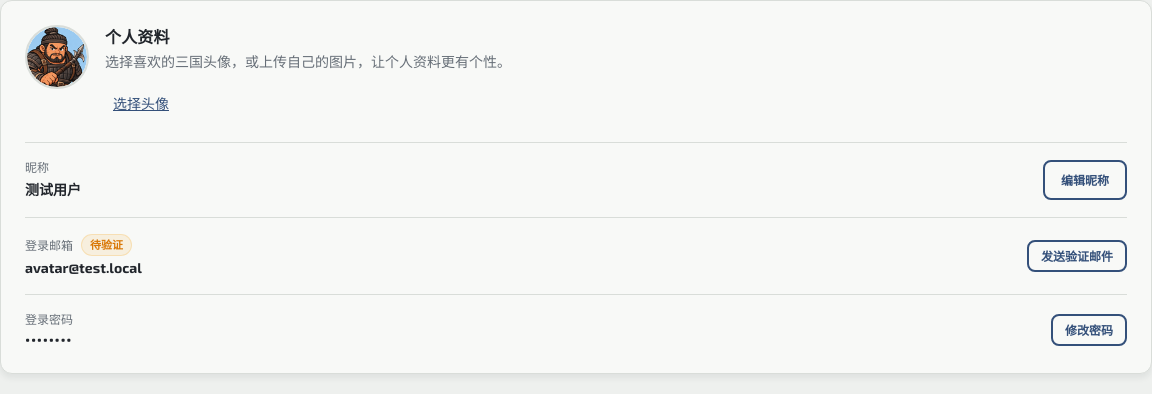
Scenario: profile pending actions › keeps email resend disabled after pending switches to cooldown
Click the button "发送验证邮件" at (1077, 256), box [1027,240,1127,272]
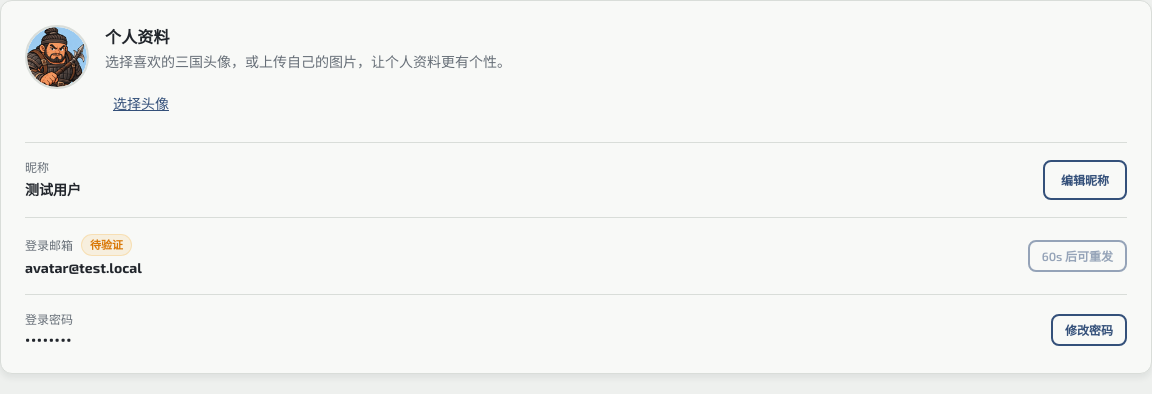
Now the button named "发送中…" is disabled, box [1028,240,1127,272]
Now the button "60s 后可重发" is disabled, box [1028,240,1127,272]
